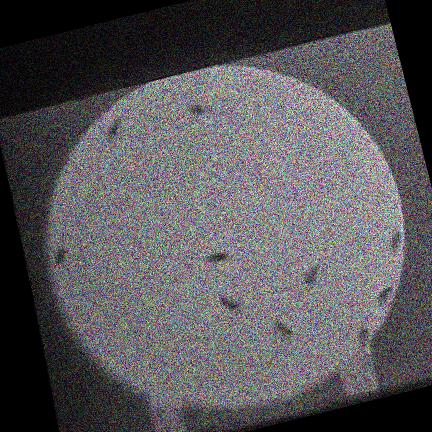fly: (273, 319, 292, 341), (105, 117, 120, 141), (219, 295, 240, 311), (303, 264, 317, 284), (205, 251, 229, 262), (377, 285, 390, 305), (53, 246, 66, 266), (357, 325, 369, 346), (188, 103, 209, 114), (389, 231, 400, 251)
